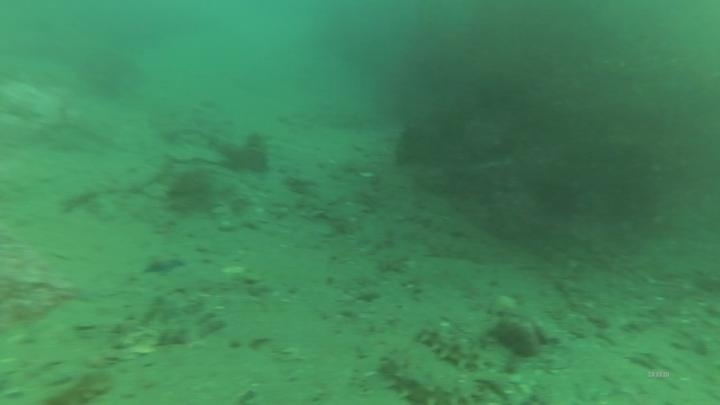echinus: (532, 175, 584, 222)
holothurian: (375, 353, 478, 405), (414, 321, 494, 375)
starfish: (139, 251, 188, 278)
